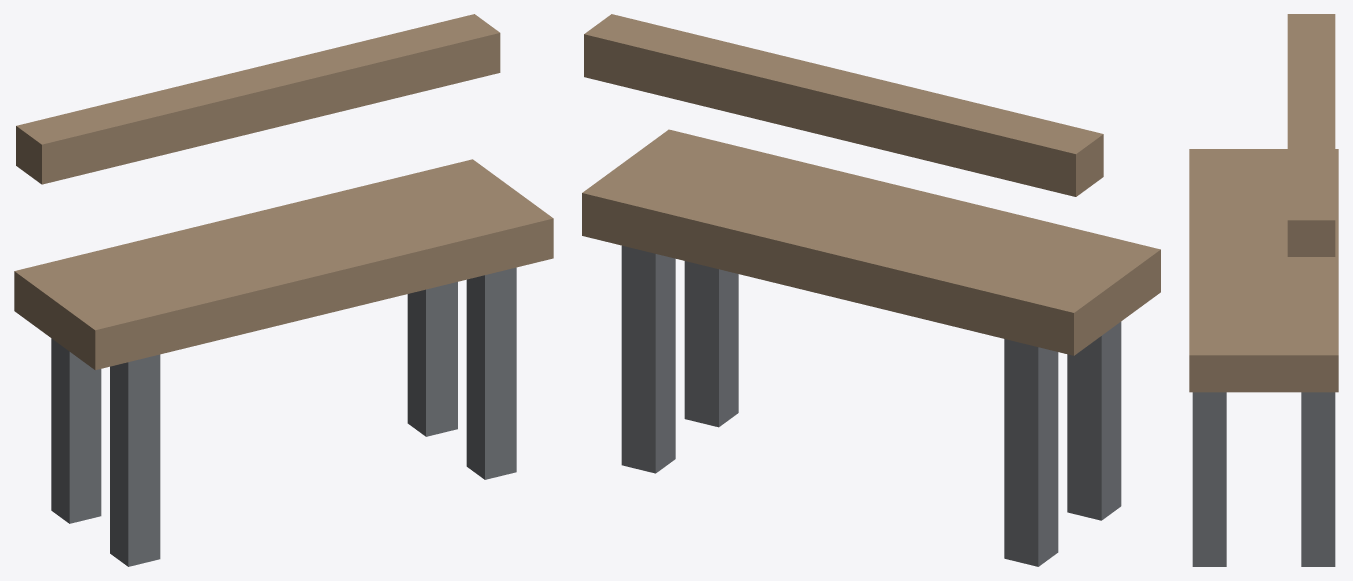
Rendered from park_bench.glb.
The picture shows the model from 3 angles, left to right: view 1: azimuth 30°, elevation 25°; view 2: azimuth 150°, elevation 25°; view 3: azimuth 270°, elevation 25°; orthographic projection. The views are drawn at different scales.
Visible parts, largest first — view 1: world; view 2: world; view 3: world.
Boxes of the visible parts, left/top/right/bottom form: world: left=14, top=14, right=553, bottom=566; world: left=582, top=14, right=1160, bottom=566; world: left=1189, top=14, right=1338, bottom=566.
Bounding box in the file's own units: 0.72 × 0.59 × 0.22.
